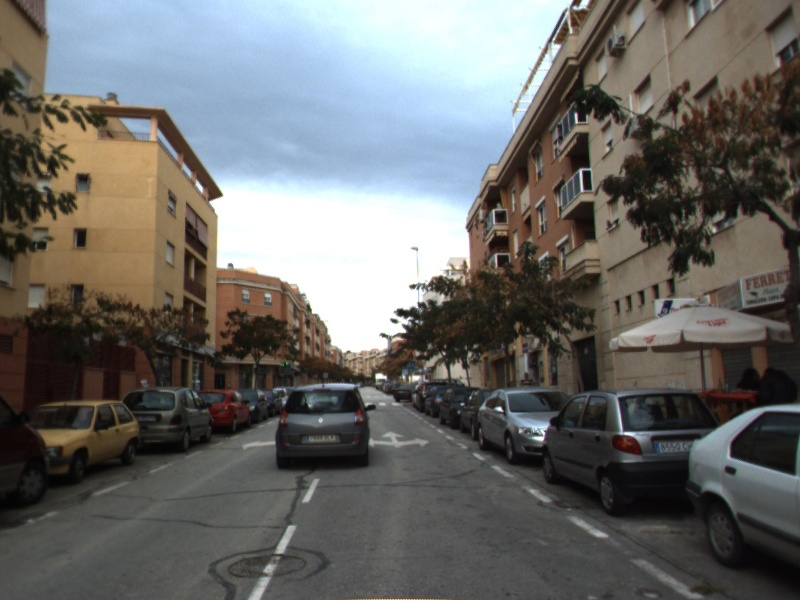STRAIGHT_LEFT_RIGHT: (368, 429, 432, 450)
